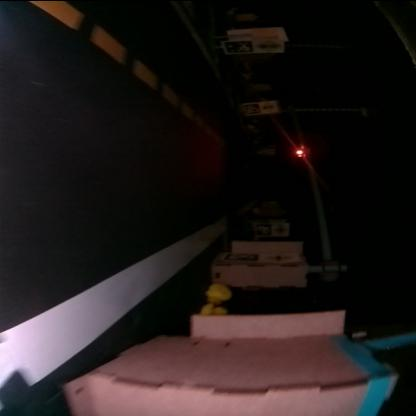Duckie: (207, 282, 232, 299), (202, 304, 228, 314)
Intersection sign: (264, 252, 296, 262), (276, 223, 290, 233)
QR code: (226, 40, 254, 52), (224, 252, 256, 260), (257, 223, 271, 234), (247, 103, 259, 111)
Signal sign: (260, 38, 282, 50), (264, 102, 275, 110)
Traffic light: (295, 147, 307, 156)
